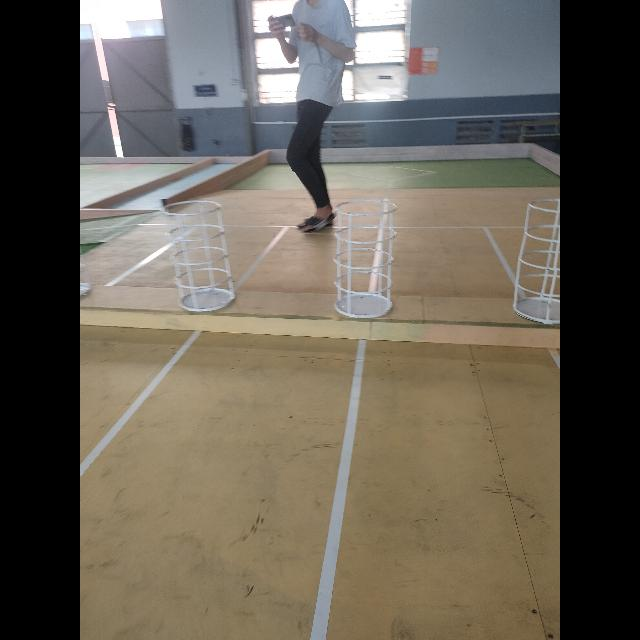S: (159, 199, 235, 312), (335, 199, 396, 320), (513, 199, 560, 325)
